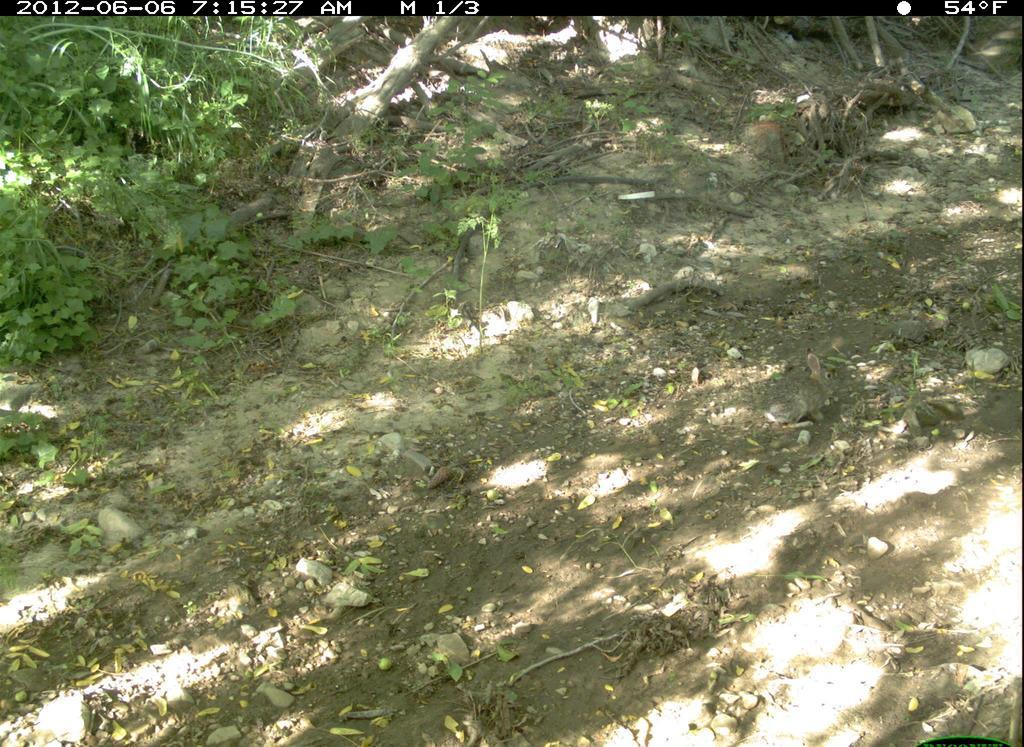rabbit: (754, 349, 849, 433)
